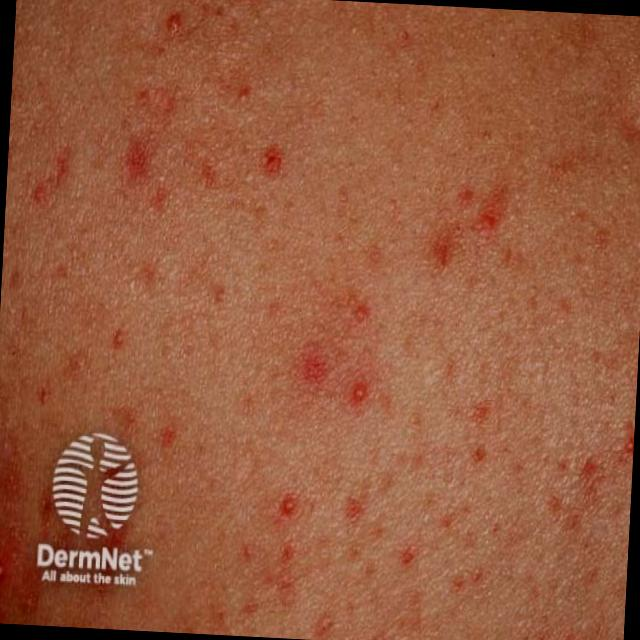fungal: (1, 1, 578, 478), (234, 434, 633, 640)
